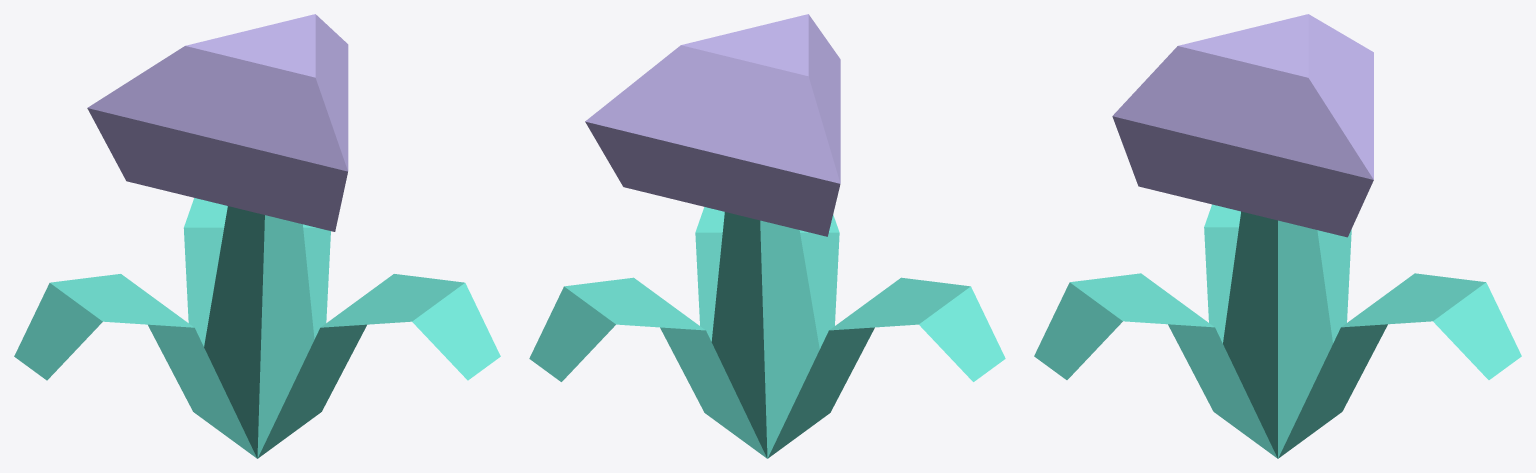
The model's file is flower_purpleB.glb.
3 views of the same model, side by side, from view 1: azimuth 30°, elevation 25°; view 2: azimuth 150°, elevation 25°; view 3: azimuth 270°, elevation 25° (orthographic). The views are drawn at different scales.
Parts seen in each view (by area): view 1: flower_purpleB; view 2: flower_purpleB; view 3: flower_purpleB.
Part boxes in pixels (x1,y1,x2,y2): flower_purpleB: [14, 14, 500, 458]; flower_purpleB: [529, 14, 1005, 458]; flower_purpleB: [1034, 14, 1521, 458].
Bounding box in the file's own units: 0.2073 × 0.2085 × 0.2392.
1 material, 1 textured.
